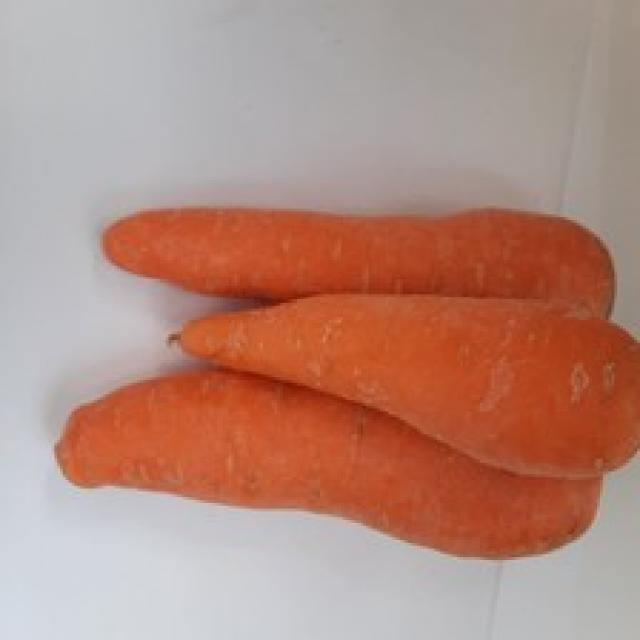carrot: (67, 375, 605, 568), (198, 291, 640, 480), (96, 207, 616, 332)
